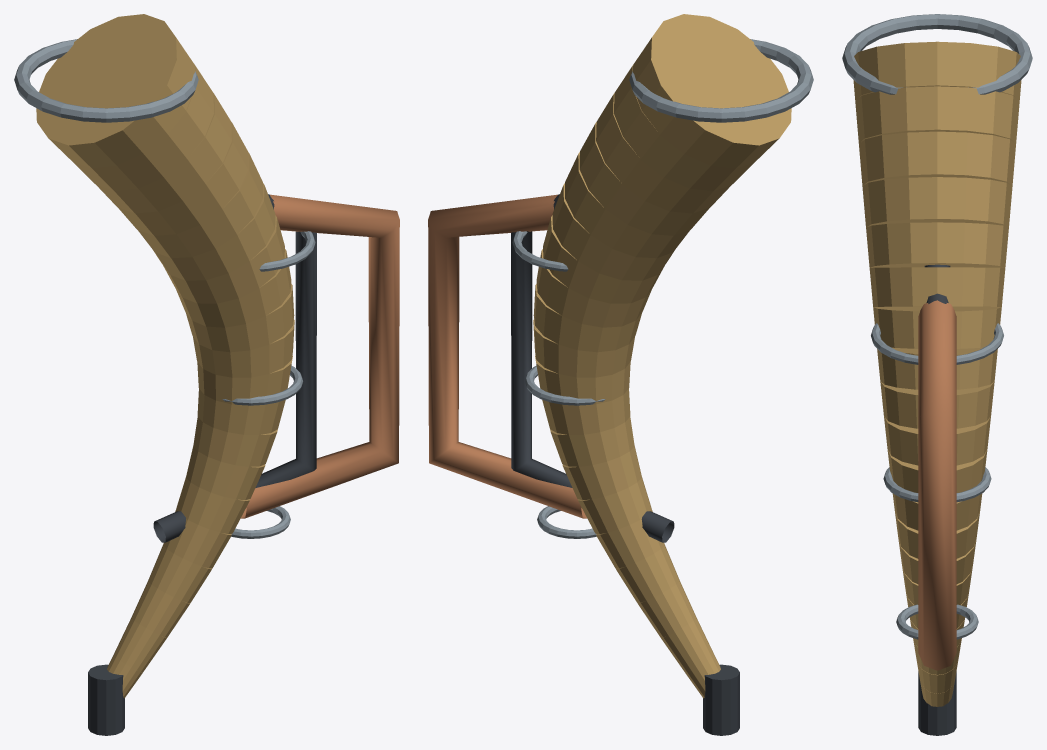
3 renders of one model, left to right at view 1: azimuth 30°, elevation 25°; view 2: azimuth 150°, elevation 25°; view 3: azimuth 270°, elevation 25°, orthographic. The views are drawn at different scales.
Parts seen in each view (by area): view 1: TV-248 Avar Thren — Wayfarer Horn; view 2: TV-248 Avar Thren — Wayfarer Horn; view 3: TV-248 Avar Thren — Wayfarer Horn.
Boxes of the visible parts, x1=… form: TV-248 Avar Thren — Wayfarer Horn: x1=14, y1=14, x2=399, y2=735; TV-248 Avar Thren — Wayfarer Horn: x1=428, y1=14, x2=813, y2=735; TV-248 Avar Thren — Wayfarer Horn: x1=842, y1=14, x2=1032, y2=735.
Size of the model in its own units: 0.2782 by 0.4969 by 0.12.
